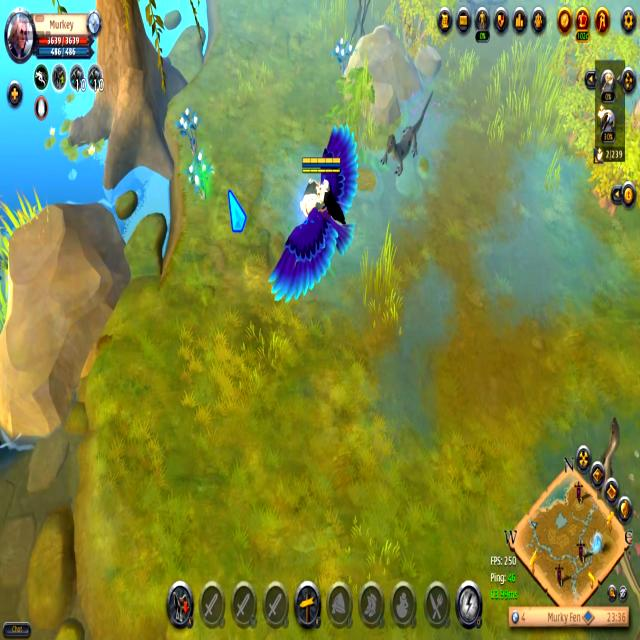hide: (186, 150, 218, 203), (174, 99, 201, 159), (330, 29, 358, 78)
ore: (378, 86, 438, 180)
red: (266, 120, 365, 301)
